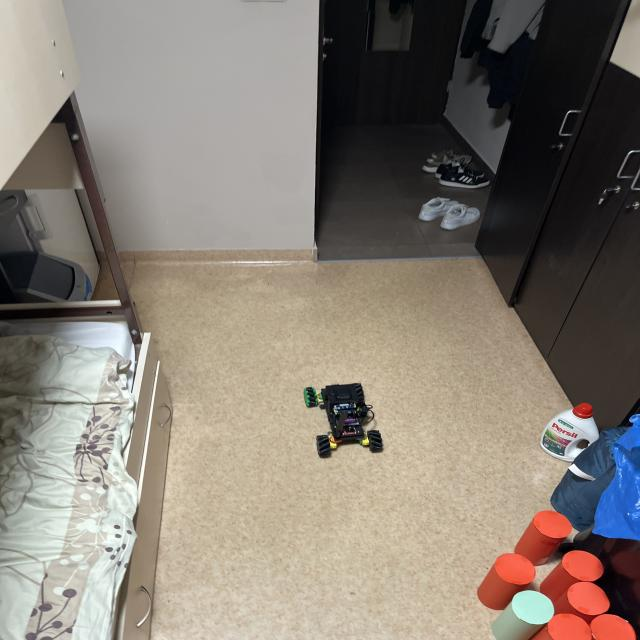robot: (304, 383, 383, 457)
